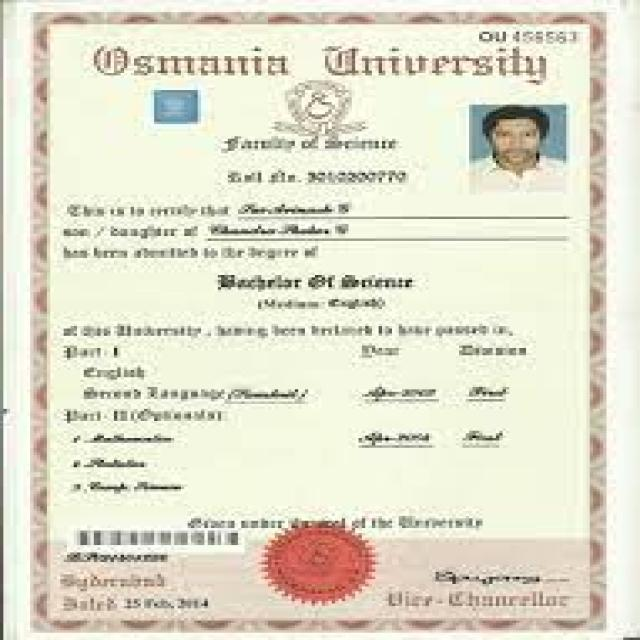degree: (205, 269, 428, 300)
signature: (424, 565, 584, 592)
stamp: (259, 522, 378, 608)
